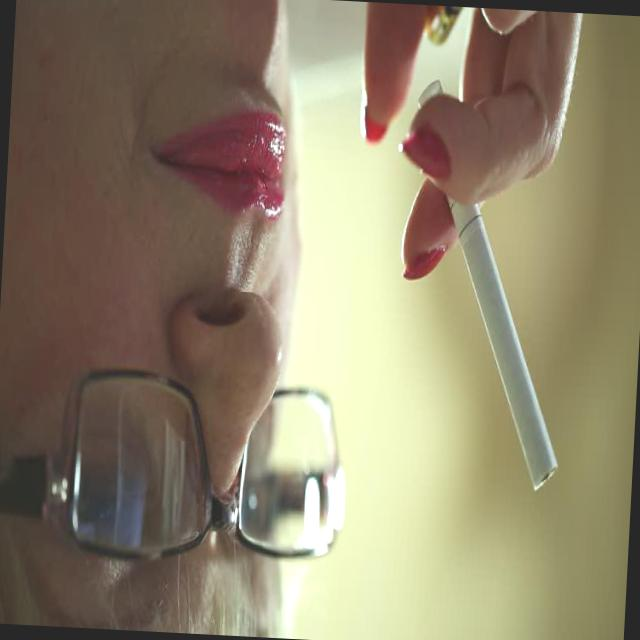smoke: (388, 96, 602, 515)
